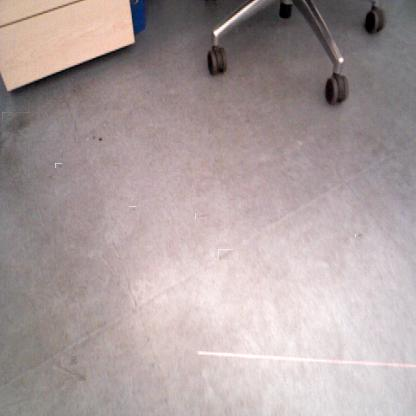mark: (56, 361, 82, 386), (2, 112, 30, 134), (218, 249, 233, 260), (198, 211, 208, 222), (129, 206, 136, 214), (356, 232, 364, 239), (56, 162, 62, 168), (90, 134, 96, 140), (70, 88, 76, 94), (98, 134, 102, 142)
